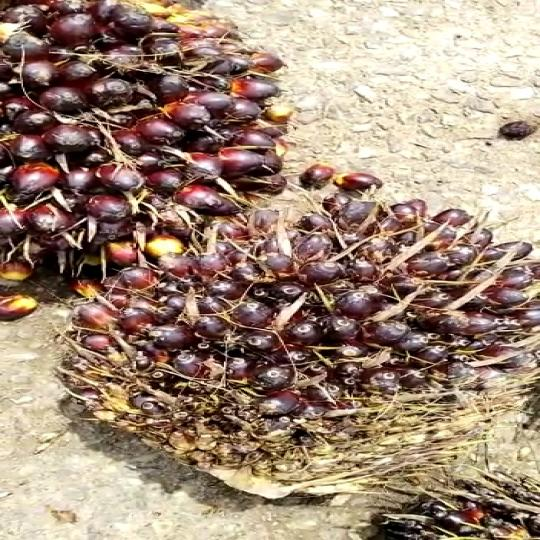kurang masak: (81, 185, 540, 498), (0, 0, 293, 320)
